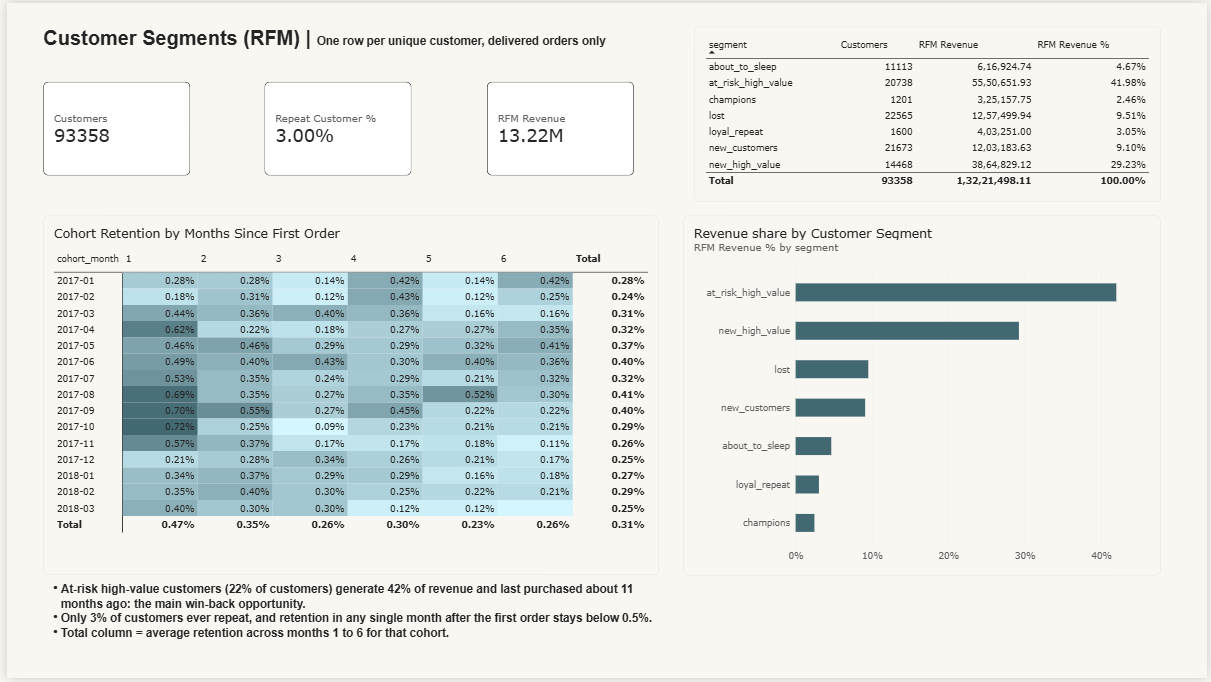

The dashboard page shown, as its layout file describes it:
{"tool":"powerbi","page":{"name":"Customers","canvas":[1920,1080],"ordinal":1},"visuals":[{"type":"textbox","box":[57.5,37.5,945,87.5],"z":0},{"type":"cardVisual","fields":{"Data":["Olist_Measures (2).Customers"]},"box":[57.5,125,235,150],"z":1000},{"type":"cardVisual","fields":{"Data":["Olist_Measures (2).RFM Revenue"]},"box":[767.5,125,235,150],"z":2000},{"type":"cardVisual","fields":{"Data":["Olist_Measures (2).Repeat Customer %"]},"box":[412.5,125,235,150],"z":3000},{"type":"tableEx","fields":{"Values":["analytics customer_rfm.segment","Olist_Measures (2).Customers","Olist_Measures (2).RFM Revenue","Olist_Measures (2).RFM Revenue %"]},"box":[1100,38,746,280],"z":4000},{"type":"clusteredBarChart","title":"Revenue share by Customer Segment","fields":{"Category":["analytics customer_rfm.segment"],"Y":["Olist_Measures (2).RFM Revenue %"]},"box":[1082,340,764,576],"z":5000},{"type":"pivotTable","title":"Cohort Retention by Months Since First Order","fields":{"Columns":["analytics cohort_retention.month_number"],"Rows":["analytics cohort_retention.cohort_month"],"Values":["Olist_Measures (2).Avg Retention %"]},"box":[57.5,340,985,575],"z":6000},{"type":"textbox","box":[58,925,985,155],"z":7000}]}

Visuals, with their boxes in screenshot pixels (x1, y1, x2, y2), scaled from the page's 1920x1080 canvas onto the 1211x682 screenshot:
textbox: region(36, 24, 632, 79)
cardVisual - Olist_Measures (2).Customers: region(36, 79, 184, 174)
cardVisual - Olist_Measures (2).RFM Revenue: region(484, 79, 632, 174)
cardVisual - Olist_Measures (2).Repeat Customer %: region(260, 79, 408, 174)
tableEx - analytics customer_rfm.segment x Olist_Measures (2).Customers: region(694, 24, 1164, 201)
"Revenue share by Customer Segment" clusteredBarChart: region(682, 215, 1164, 578)
"Cohort Retention by Months Since First Order" pivotTable: region(36, 215, 658, 578)
textbox: region(37, 584, 658, 681)
